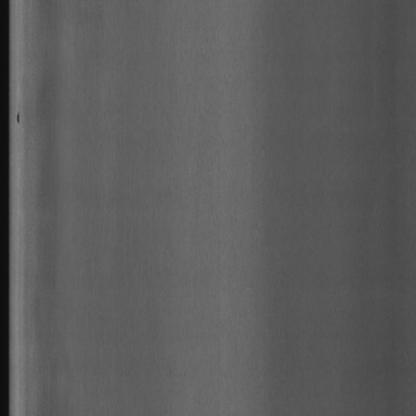inclusion: (14, 98, 28, 141)
